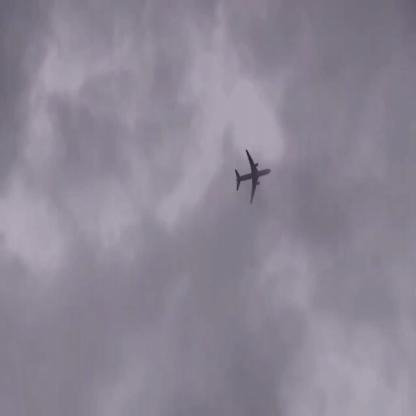CIV_Plane: (234, 152, 272, 204)
